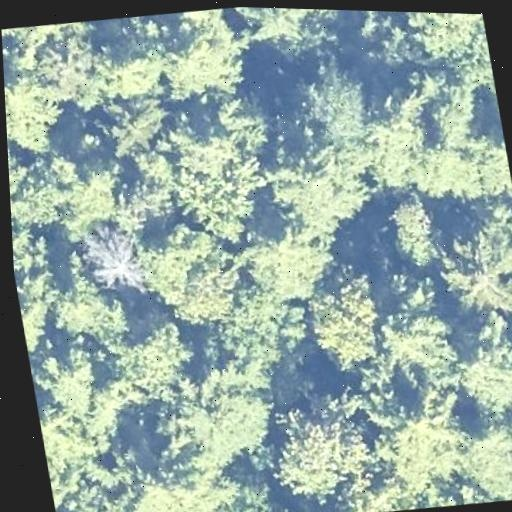tree-top: (360, 83, 512, 212), (138, 349, 291, 476), (153, 118, 282, 255), (123, 215, 256, 333), (355, 380, 474, 498), (264, 128, 385, 239), (264, 393, 379, 505), (36, 137, 131, 254), (370, 11, 495, 98), (368, 268, 464, 379), (300, 256, 391, 373), (211, 280, 314, 383), (238, 221, 340, 310), (110, 446, 243, 512), (153, 14, 249, 104), (290, 55, 380, 148), (38, 403, 114, 512), (112, 314, 202, 403), (48, 269, 136, 353), (29, 345, 120, 425), (85, 86, 174, 166), (3, 54, 69, 160), (36, 34, 118, 112), (452, 319, 512, 420), (381, 190, 452, 272), (451, 412, 512, 506), (77, 218, 149, 297), (444, 198, 512, 279), (13, 260, 70, 356), (7, 144, 67, 234), (108, 32, 174, 109), (1, 18, 102, 68), (193, 475, 309, 512), (228, 7, 316, 55), (117, 170, 182, 229), (168, 5, 239, 44), (281, 8, 372, 30)
